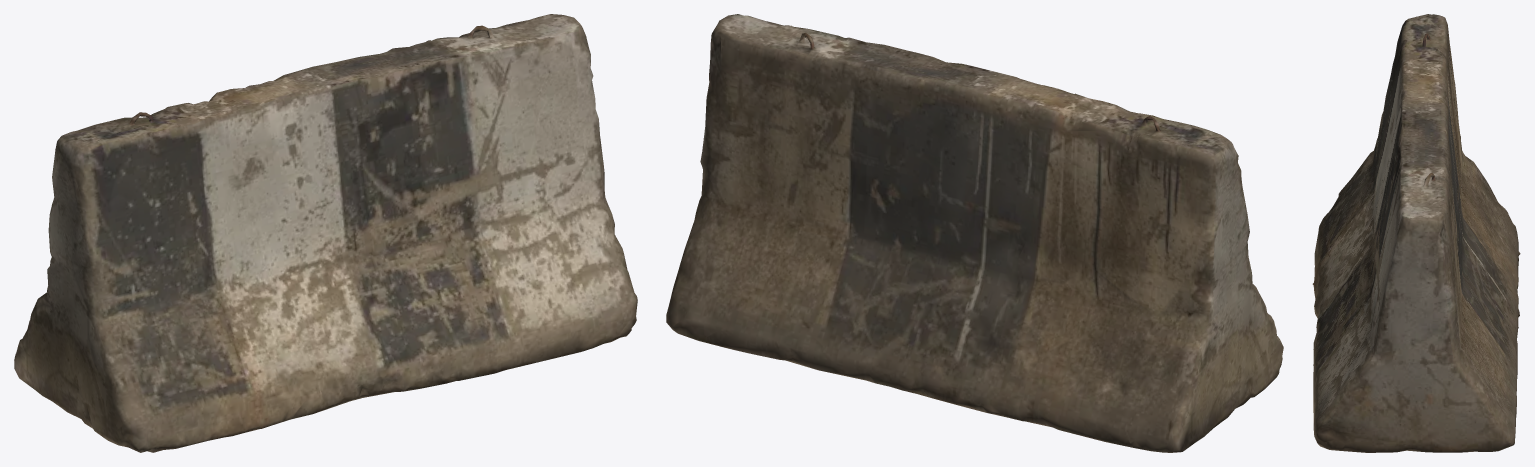
File: barrier.glb
The picture shows the model from 3 angles, left to right: view 1: azimuth 30°, elevation 25°; view 2: azimuth 150°, elevation 25°; view 3: azimuth 270°, elevation 25°; orthographic projection. The views are drawn at different scales.
Visible parts, largest first — view 1: concrete_road_barrier; view 2: concrete_road_barrier; view 3: concrete_road_barrier.
Boxes of the visible parts, <box> form: concrete_road_barrier: <box>14,14,637,452</box>; concrete_road_barrier: <box>666,14,1283,452</box>; concrete_road_barrier: <box>1312,14,1520,452</box>.
Bounding box in the file's own units: 1.54 × 0.8304 × 0.6387.
1 material, 1 textured.
